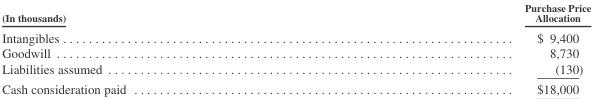table: (1, 1, 590, 96)
table column: (1, 1, 324, 96), (324, 1, 590, 96)
table column header: (1, 1, 590, 26)
table row: (1, 1, 590, 26), (1, 26, 590, 45), (1, 60, 590, 78), (1, 78, 590, 96), (1, 45, 590, 60)
